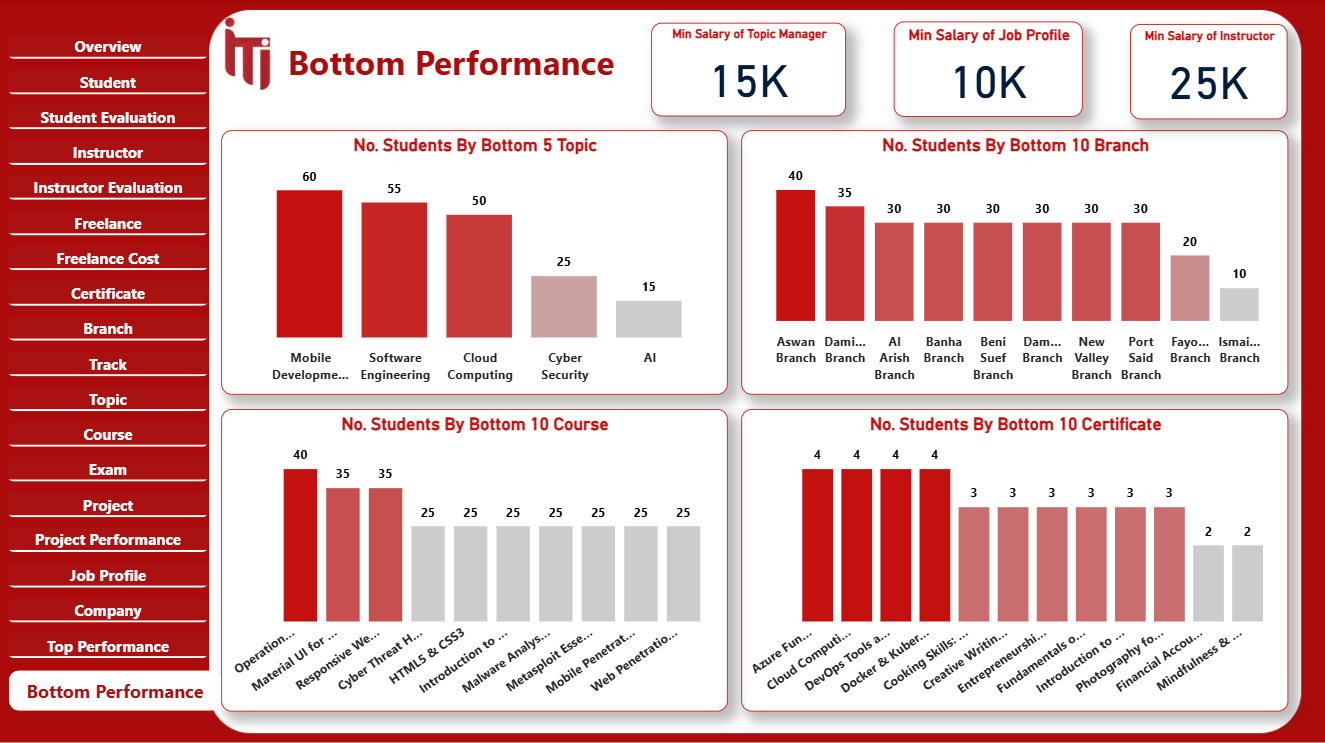

What the dashboard file says about the page in this screenshot:
{"tool":"powerbi","page":{"name":"Bottom Performance","canvas":[1280,720],"ordinal":18},"visuals":[{"type":"clusteredColumnChart","title":"No. Students By Bottom 10 Branch","fields":{"Category":["vw_Dim_Branch.Branch_Name"],"Y":["Count(Fact_Student_Performance.st_id)"]},"box":[714.9,126.2,528.3,255.2],"z":0},{"type":"clusteredColumnChart","title":"No. Students By Bottom 5 Topic","fields":{"Y":["Count(Fact_Student_Performance.st_id)"],"Category":["vw_Dim_Topic.Topic_Name"]},"box":[214.1,126.2,488.5,255.2],"z":1000},{"type":"clusteredColumnChart","title":"No. Students By Bottom 10 Certificate","fields":{"Y":["Count(Fact_Student_Performance.st_id)"],"Category":["vw_Dim_Certificate.certificate_name"]},"box":[714.9,395.2,528.3,292.3],"z":2000},{"type":"clusteredColumnChart","title":"No. Students By Bottom 10 Course","fields":{"Y":["Count(Fact_Student_Performance.st_id)"],"Category":["vw_Dim_Course.crs_name"]},"box":[214.1,395.2,488.5,292.3],"z":3000},{"type":"card","title":"Min Salary of Instructor","fields":{"Values":["Min(Dim_Instructor.Salary)"]},"box":[1090.5,23.8,152.4,91.7],"z":4000},{"type":"card","title":"Min Salary of Job Profile","fields":{"Values":["Min(Dim_Job_Profile.Salary)"]},"box":[862.2,22,182.5,91.9],"z":5000},{"type":"card","title":"Min Salary of Topic Manager","fields":{"Values":["Min(vw_Dim_Topic.Salary)"]},"box":[628.5,23.3,188,90.6],"z":6000},{"type":"pageNavigator","box":[6.9,34.3,194.9,602.4],"z":7000},{"type":"pageNavigator","box":[8.2,647.7,205.8,39.8],"z":8000},{"type":"image","box":[196.2,4.1,86.4,89.2],"z":9000},{"type":"textbox","box":[273.1,34.3,391.1,68.6],"z":10000}]}

Visuals, with their boxes on the page's 1280x720 design canvas (x1, y1, x2, y2). These are canvas units, not pixel positions in the 1325x743 screenshot, which may show the page scaled, cropped or inside an application window:
"No. Students By Bottom 10 Branch" clusteredColumnChart: Rect(715, 126, 1243, 381)
"No. Students By Bottom 5 Topic" clusteredColumnChart: Rect(214, 126, 703, 381)
"No. Students By Bottom 10 Certificate" clusteredColumnChart: Rect(715, 395, 1243, 688)
"No. Students By Bottom 10 Course" clusteredColumnChart: Rect(214, 395, 703, 688)
"Min Salary of Instructor" card: Rect(1090, 24, 1243, 116)
"Min Salary of Job Profile" card: Rect(862, 22, 1045, 114)
"Min Salary of Topic Manager" card: Rect(628, 23, 816, 114)
pageNavigator: Rect(7, 34, 202, 637)
pageNavigator: Rect(8, 648, 214, 688)
image: Rect(196, 4, 283, 93)
textbox: Rect(273, 34, 664, 103)
